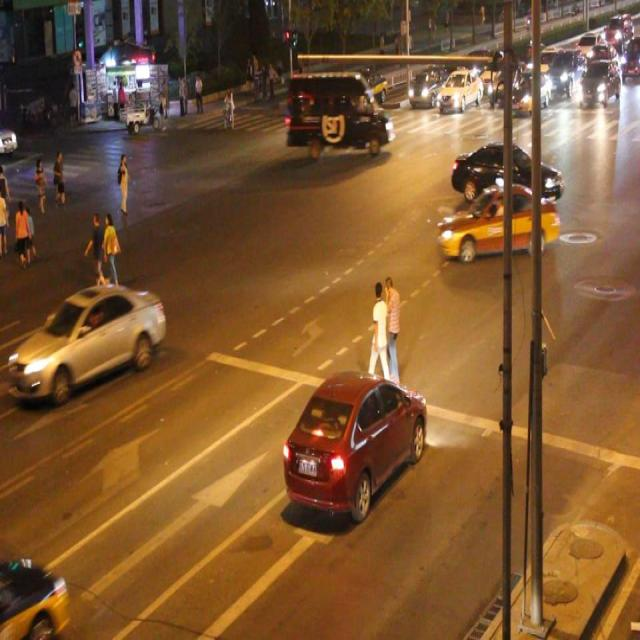car: (283, 369, 427, 519), (14, 281, 166, 402), (437, 184, 558, 263), (454, 142, 562, 206), (1, 550, 68, 640), (438, 69, 481, 111), (346, 72, 387, 114), (408, 65, 447, 106)
truck: (286, 69, 393, 156)
